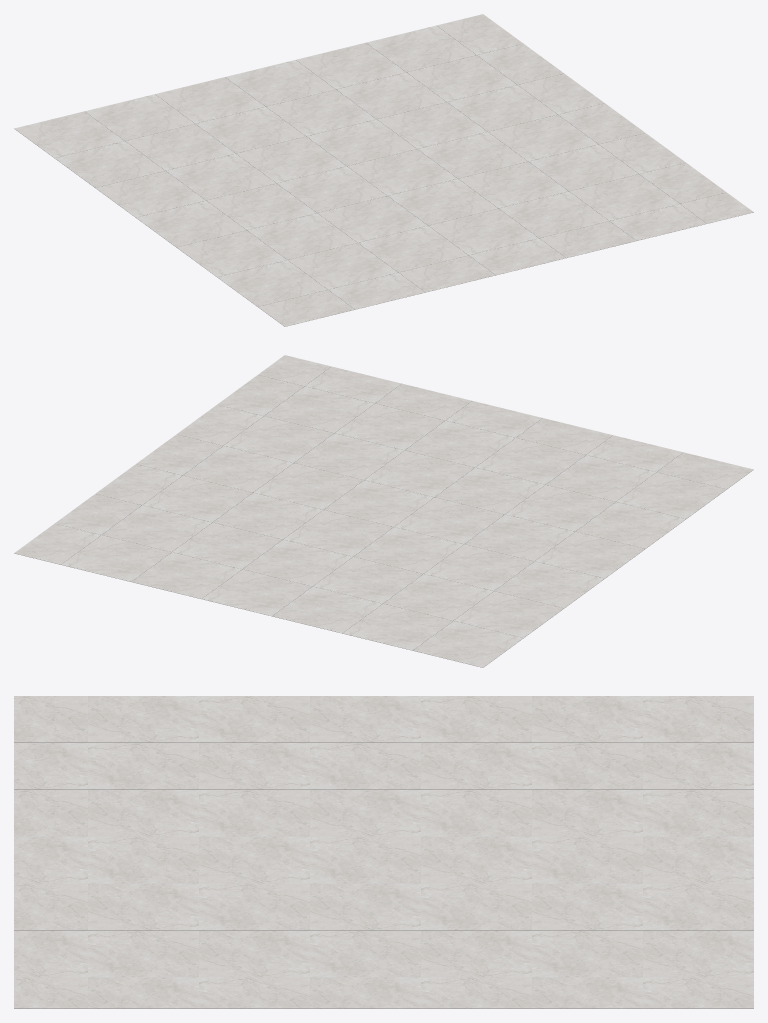
The model's file is ever-stone-120x120.glb.
3 views of the same model, one above another, from view 1: azimuth 30°, elevation 25°; view 2: azimuth 150°, elevation 25°; view 3: azimuth 270°, elevation 25° (orthographic). The views are drawn at different scales.
Parts seen in each view (by area): view 1: Ever Stone; view 2: Ever Stone; view 3: Ever Stone.
Boxes of the visible parts, x1,y1,x2,y2 form: Ever Stone: (14,14,753,326); Ever Stone: (14,355,753,667); Ever Stone: (14,696,753,1008).
Size of the model in its own units: 8 by 0.003 by 8.
Materials: 2 (1 with a texture image).
